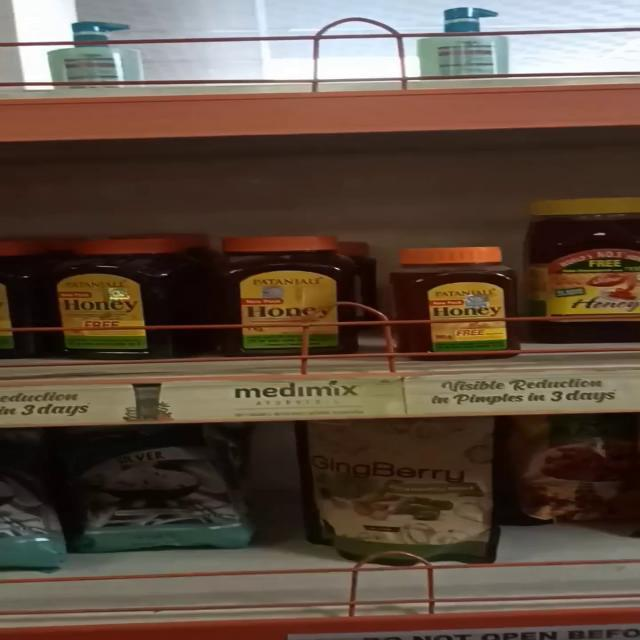Dabur Honey: (524, 193, 640, 342)
Patanjali Honey: (205, 226, 352, 356), (386, 245, 534, 362), (44, 232, 181, 354)
